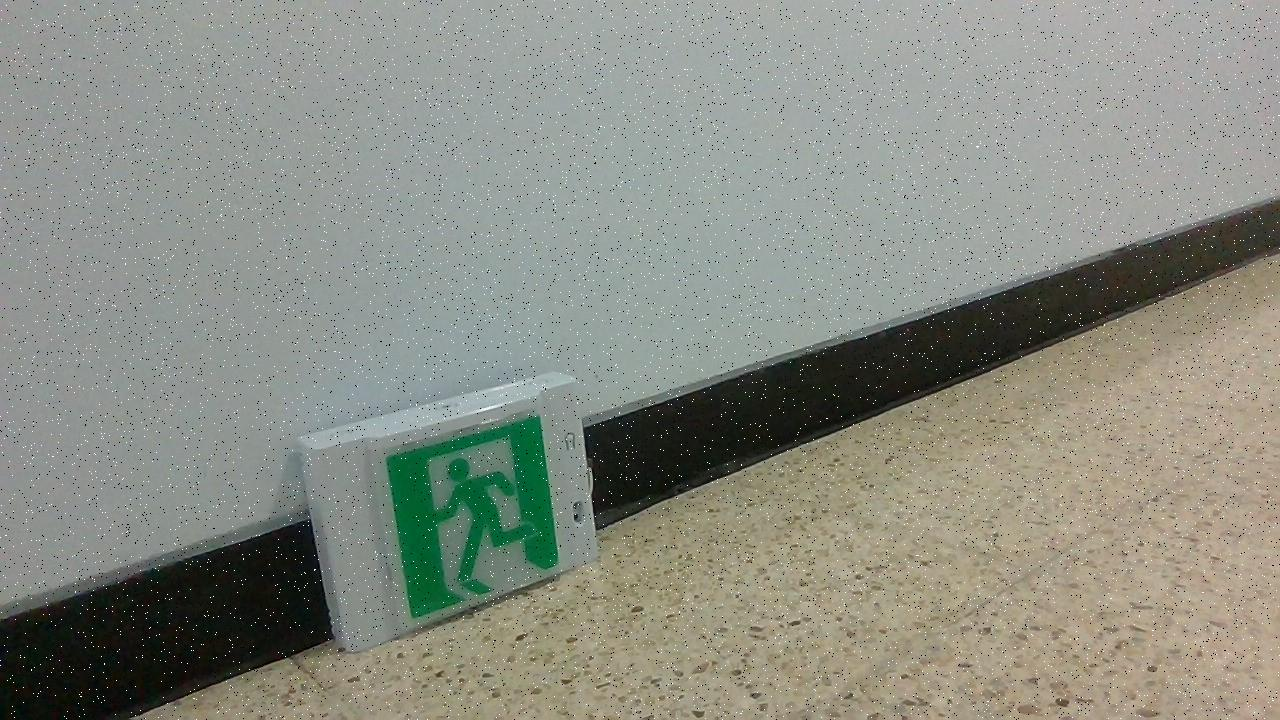emergency_exit: (296, 370, 600, 654)
